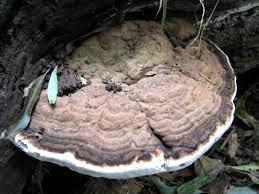Ganoderma - Fruit Body: (14, 14, 238, 180)
